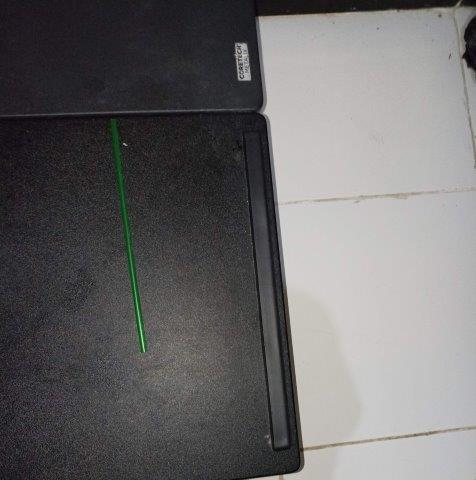sedotan: (110, 118, 148, 352)
